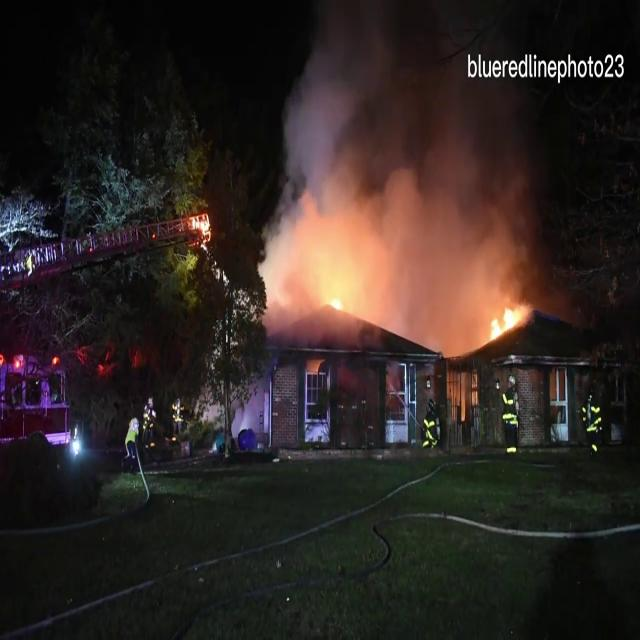Fire: (478, 292, 532, 349)
Smoke: (257, 0, 559, 301)
